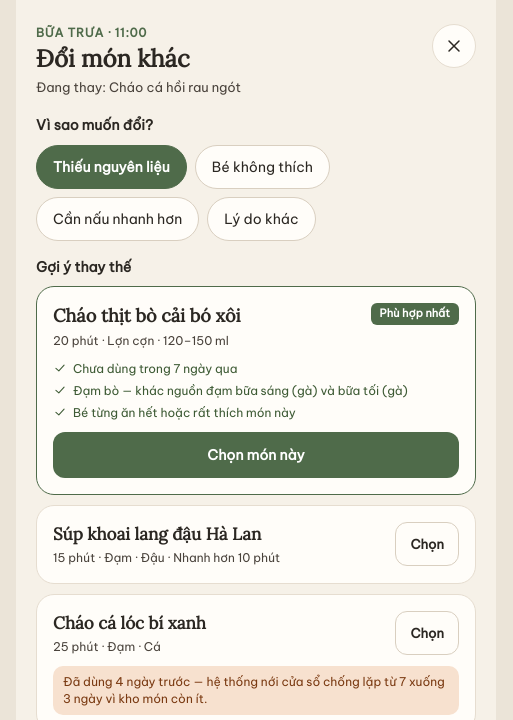
Test case: Swap (S02) › sends one swap for a double tap, every choice locked while it runs (TC-UI-016)
The image size is (513, 720).
Double-click the button "Chọn món này" at (256, 455), box [53,432,459,478]
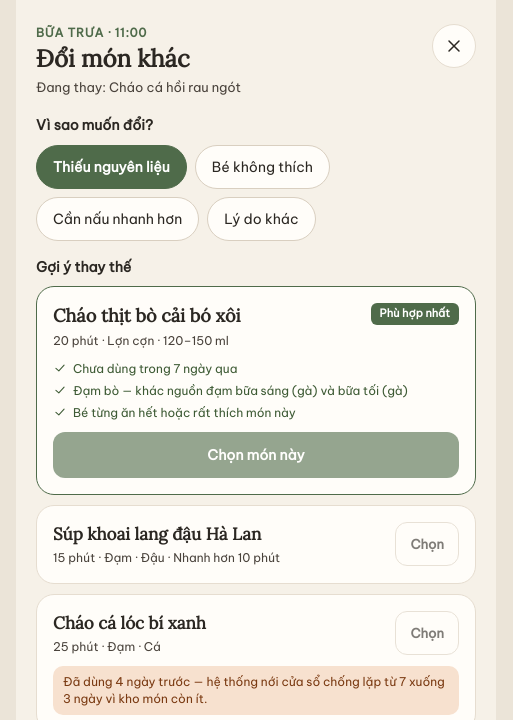
Result: the button with aria-label "Chọn Súp khoai lang đậu Hà Lan" is disabled at [395,522,459,566]
